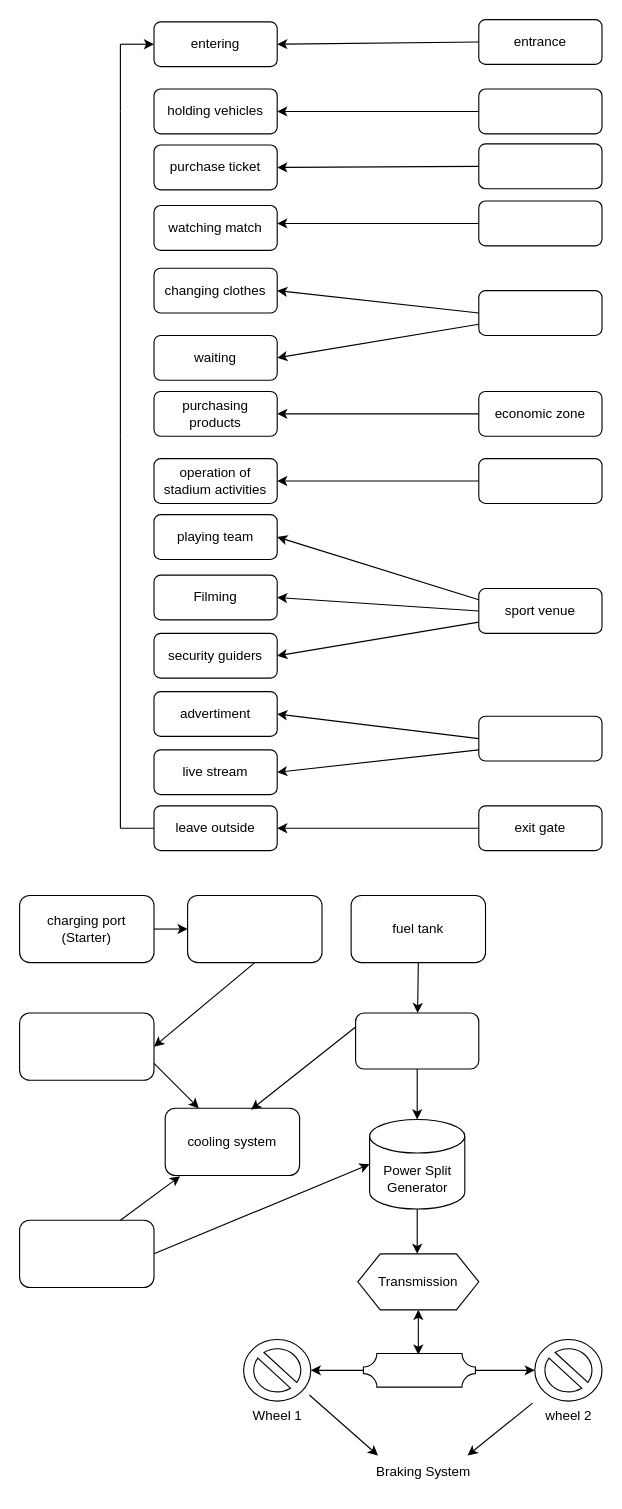
This 622x1509 diagram has some shape labels left out. The shapes that lost their labels are listed below. From the top down, each one's centre as x and y in pixels, then its label:
At point 540,111: "parking".
At point 540,166: "tickets sales".
At point 540,223: "sitting zone".
At point 540,312: "dressing rooms".
At point 540,480: "offices".
At point 540,738: "score board".
At point 254,928: "onboarding chager".
At point 86,1046: "AC-DC Converter".
At point 416,1040: "ice engine".
At point 86,1253: "Battery Pack".
At point 418,1369: "Drive".
